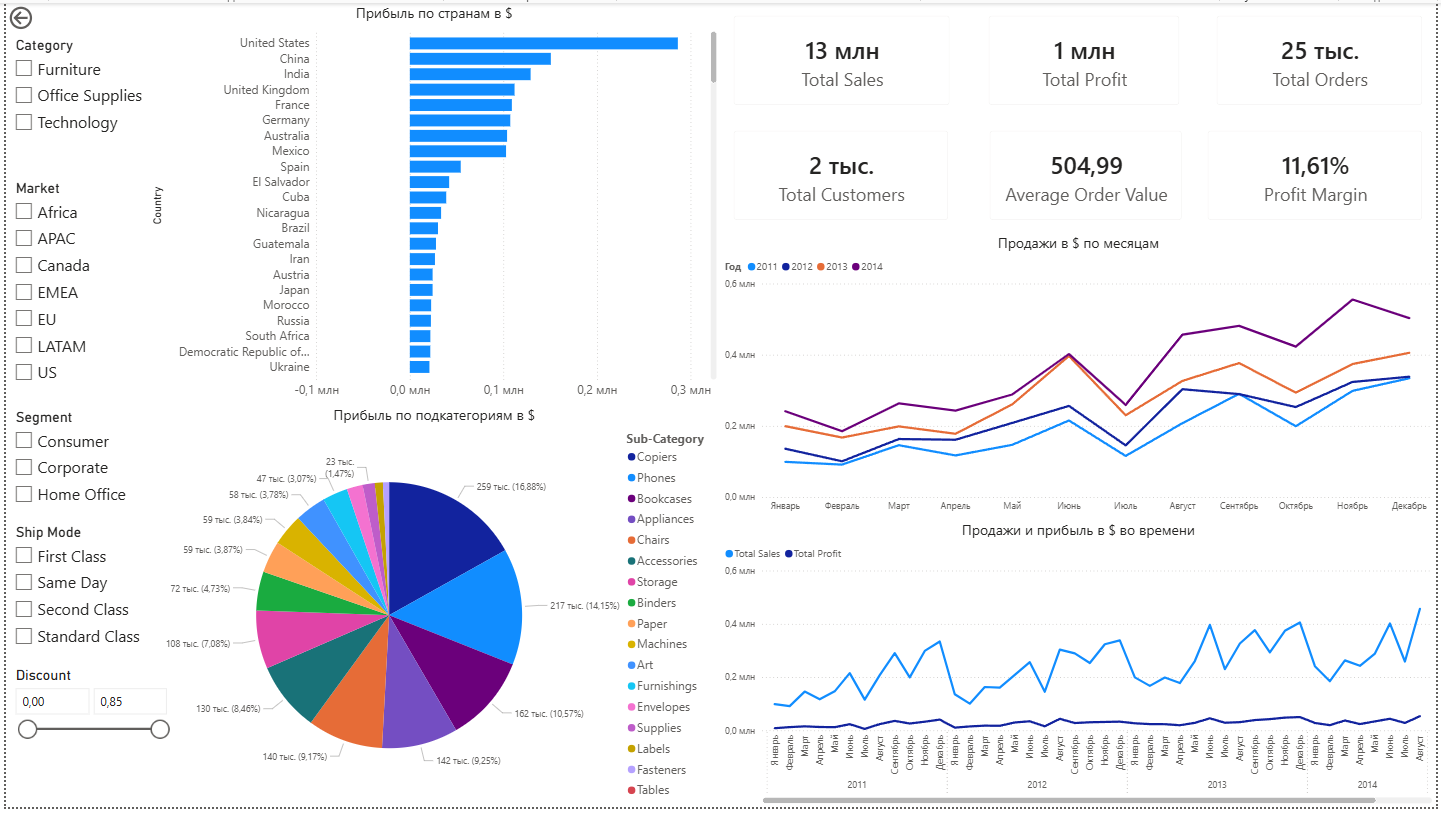

Layout of this report page (visuals, bound fields, positions):
{"tool":"powerbi","page":{"name":"Страница 1","canvas":[1920,1080],"ordinal":0},"visuals":[{"type":"cardVisual","fields":{"Data":["data_processed.Total Sales"]},"box":[960,0,324.9,154.7],"z":0,"group":"g1"},{"type":"cardVisual","fields":{"Data":["data_processed.Total Profit"]},"box":[1303.2,0.1,290.2,154.7],"z":1000,"group":"g1"},{"type":"lineChart","title":"Продажи и прибыль в $ во времени","fields":{"Y":["data_processed.Total Sales","data_processed.Total Profit"],"Category":["calendar.Year","calendar.Date.Изменение.Иерархия дат.Месяц"]},"box":[960,694,960,386],"z":1000},{"type":"cardVisual","fields":{"Data":["data_processed.Total Orders"]},"box":[1609.4,0.1,310.6,154.7],"z":2000,"group":"g1"},{"type":"pieChart","title":"Прибыль по подкатегориям в $","fields":{"Y":["data_processed.Total Profit"],"Category":["data_products.Sub-Category"]},"box":[191.2,539.7,768.8,539.7],"z":2000},{"type":"clusteredBarChart","title":"Прибыль по странам в $","fields":{"Y":["data_processed.Total Profit"],"Category":["data_processed.Country"]},"box":[191.2,0,768.8,539.7],"z":3000},{"type":"cardVisual","fields":{"Data":["data_processed.Total Customers"]},"box":[960,154.7,323,154.7],"z":3000,"group":"g1"},{"type":"group","id":"g1","title":"Группа 1","box":[960,0,960,309.3],"z":4000},{"type":"cardVisual","fields":{"Data":["data_processed.Average Order Value"]},"box":[1303.8,154.7,292.8,154.7],"z":4000,"group":"g1"},{"type":"cardVisual","fields":{"Data":["data_processed.Profit Margin"]},"box":[1596.5,154.7,323,154.7],"z":5000,"group":"g1"},{"type":"lineChart","title":"Продажи в $ по месяцам","fields":{"Y":["data_processed.Total Sales"],"Category":["calendar.Date.Изменение.Иерархия дат.Месяц"],"Series":["calendar.Date.Изменение.Иерархия дат.Год"]},"box":[960,309.3,960,385],"z":5000},{"type":"actionButton","box":[0,0,100,40],"z":6000},{"type":"slicer","fields":{"Values":["data_processed.Category"]},"box":[0,40.1,190.7,192.3],"z":7000},{"type":"slicer","fields":{"Values":["data_processed.Market"]},"box":[0,232.4,190.7,307.7],"z":8000},{"type":"slicer","fields":{"Values":["data_processed.Segment"]},"box":[0,540.1,190.7,153.9],"z":9000},{"type":"slicer","fields":{"Values":["data_processed.Ship Mode"]},"box":[0,694,190.7,192.3],"z":10000},{"type":"slicer","fields":{"Values":["data_processed.Discount"]},"box":[0,887.1,227.6,192.6],"z":10500}]}

Visuals, with their boxes on the page's 1920x1080 design canvas (x1, y1, x2, y2). These are canvas units, not pixel positions in the 1441x813 screenshot, which may show the page scaled, cropped or inside an application window:
cardVisual - data_processed.Total Sales: 960, 0, 1285, 155
cardVisual - data_processed.Total Profit: 1303, 0, 1593, 155
"Продажи и прибыль в $ во времени" lineChart: 960, 694, 1920, 1080
cardVisual - data_processed.Total Orders: 1609, 0, 1920, 155
"Прибыль по подкатегориям в $" pieChart: 191, 540, 960, 1079
"Прибыль по странам в $" clusteredBarChart: 191, 0, 960, 540
cardVisual - data_processed.Total Customers: 960, 155, 1283, 309
"Группа 1" group: 960, 0, 1920, 309
cardVisual - data_processed.Average Order Value: 1304, 155, 1597, 309
cardVisual - data_processed.Profit Margin: 1596, 155, 1920, 309
"Продажи в $ по месяцам" lineChart: 960, 309, 1920, 694
actionButton: 0, 0, 100, 40
slicer - data_processed.Category: 0, 40, 191, 232
slicer - data_processed.Market: 0, 232, 191, 540
slicer - data_processed.Segment: 0, 540, 191, 694
slicer - data_processed.Ship Mode: 0, 694, 191, 886
slicer - data_processed.Discount: 0, 887, 228, 1080
